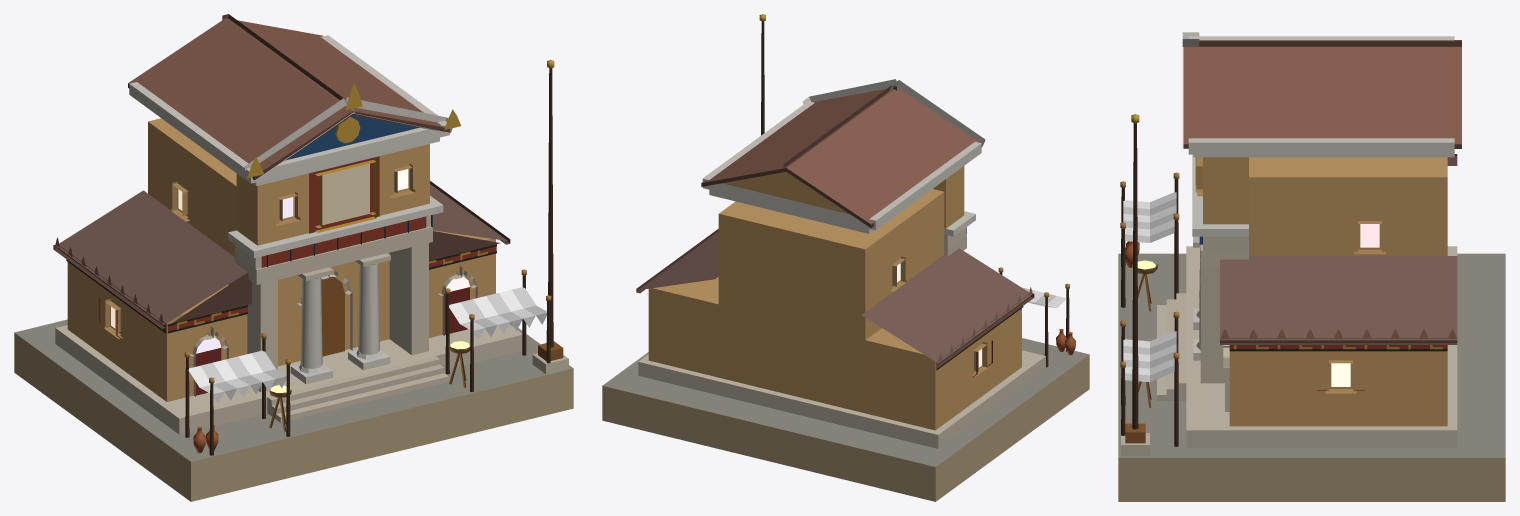
The model's file is harbour-office-bsc.glb.
The picture shows the model from 3 angles, left to right: view 1: azimuth 30°, elevation 25°; view 2: azimuth 150°, elevation 25°; view 3: azimuth 270°, elevation 25°; orthographic projection. The views are drawn at different scales.
Visible parts, largest first — view 1: office_body, awning, crest_panel, office_body_windows; view 2: office_body; view 3: office_body, awning, office_body_windows.
Part boxes in pixels (x1,y1,x2,y2): office_body: [14, 14, 573, 501]; awning: [188, 287, 546, 403]; crest_panel: [322, 163, 369, 225]; office_body_windows: [111, 169, 469, 353]; office_body: [602, 14, 1089, 501]; office_body: [1118, 32, 1505, 501]; awning: [1123, 192, 1176, 382]; office_body_windows: [1331, 224, 1379, 386].
Size of the model in its own units: 20 by 17.59 by 16.
